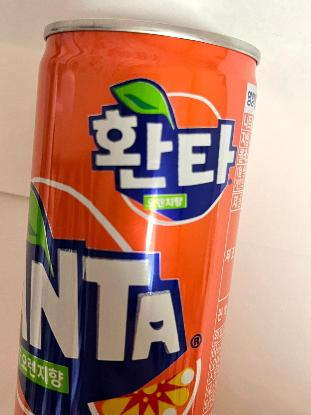Can: (8, 15, 267, 415)
